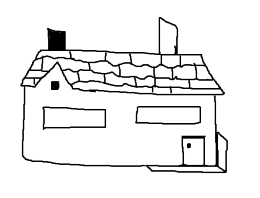chimney: (151, 12, 183, 55), (42, 21, 74, 53)
door: (178, 129, 210, 169)
open_window: (37, 102, 112, 132), (131, 103, 207, 127)
roof: (15, 47, 228, 103)
wall: (19, 87, 224, 176)
